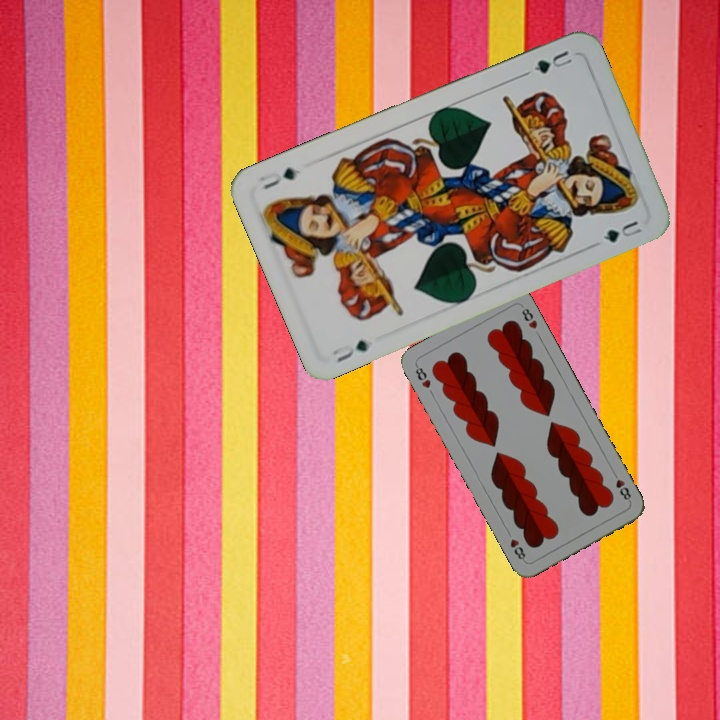GU: (529, 46, 575, 77), (328, 336, 371, 365)
H8: (608, 467, 634, 505), (411, 361, 433, 391)
